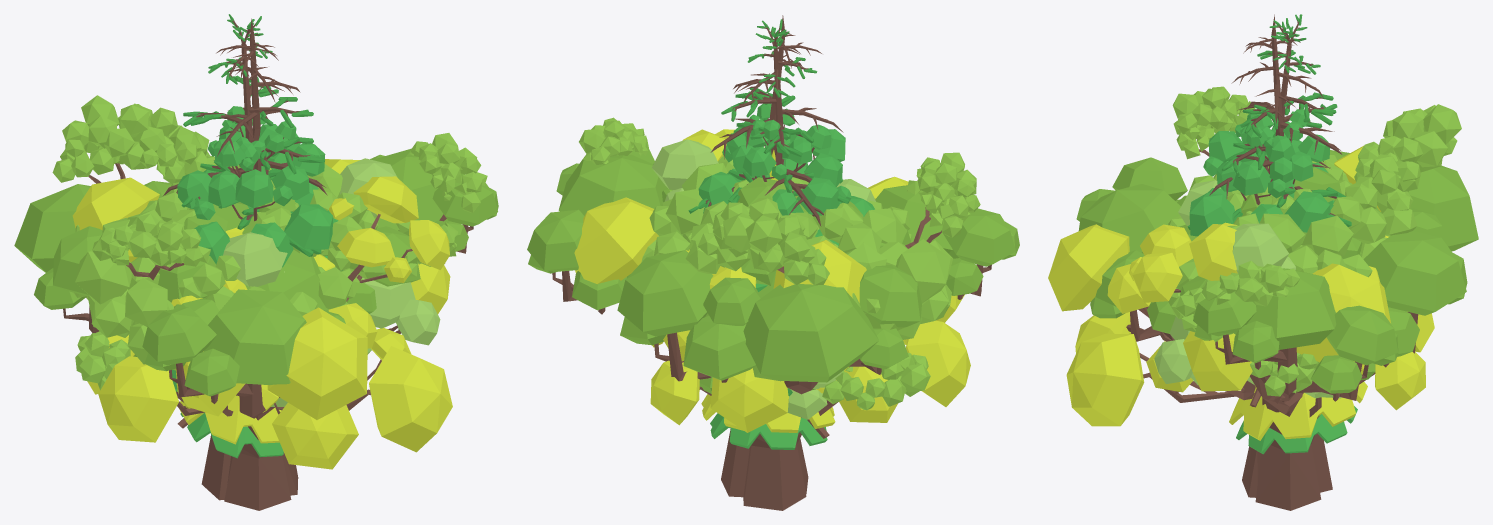
Rendered from r3f_trees.glb.
The picture shows the model from 3 angles, left to right: view 1: azimuth 30°, elevation 25°; view 2: azimuth 150°, elevation 25°; view 3: azimuth 270°, elevation 25°; orthographic projection.
Parts seen in each view (by area): view 1: cool_tree01, Big_tree01, fat_tree01, LP_tree01, G_tree01, big__pine_tree01, big_dead_pine_tree01, Pine_tree01, Pine_01, cartoon_tree01; view 2: fat_tree01, Big_tree01, cool_tree01, LP_tree01, big__pine_tree01, G_tree01, big_dead_pine_tree01, Pine_01, cartoon_tree01, Pine_tree01; view 3: fat_tree01, cool_tree01, Big_tree01, LP_tree01, G_tree01, big__pine_tree01, Pine_tree01, big_dead_pine_tree01, Pine_01, cartoon_tree01.
Boxes of the visible parts, left/top/right/bottom form: cool_tree01: left=72, top=159, right=452, bottom=469; Big_tree01: left=52, top=95, right=487, bottom=390; fat_tree01: left=14, top=148, right=498, bottom=510; LP_tree01: left=177, top=106, right=343, bottom=271; G_tree01: left=176, top=158, right=440, bottom=406; big__pine_tree01: left=181, top=14, right=324, bottom=256; big_dead_pine_tree01: left=162, top=18, right=327, bottom=196; Pine_tree01: left=179, top=395, right=281, bottom=444; Pine_01: left=180, top=166, right=283, bottom=458; cartoon_tree01: left=134, top=165, right=330, bottom=356; fat_tree01: left=527, top=139, right=1019, bottom=510; Big_tree01: left=579, top=117, right=980, bottom=410; cool_tree01: left=574, top=129, right=970, bottom=432; LP_tree01: left=698, top=103, right=874, bottom=291; big__pine_tree01: left=688, top=19, right=848, bottom=396; G_tree01: left=652, top=139, right=875, bottom=419; big_dead_pine_tree01: left=710, top=15, right=843, bottom=226; Pine_01: left=710, top=144, right=827, bottom=449; cartoon_tree01: left=737, top=177, right=863, bottom=403; Pine_tree01: left=701, top=150, right=835, bottom=432; fat_tree01: left=1076, top=150, right=1478, bottom=510; cool_tree01: left=1048, top=145, right=1434, bottom=426; Big_tree01: left=1167, top=86, right=1461, bottom=414; LP_tree01: left=1189, top=109, right=1334, bottom=236; G_tree01: left=1154, top=180, right=1341, bottom=418; big__pine_tree01: left=1187, top=14, right=1351, bottom=229; Pine_tree01: left=1229, top=382, right=1367, bottom=440; big_dead_pine_tree01: left=1209, top=14, right=1342, bottom=198; Pine_01: left=1236, top=179, right=1357, bottom=454; cartoon_tree01: left=1241, top=166, right=1380, bottom=377.
Size of the model in its own units: 27.8 by 31.21 by 25.88.
1 material, 1 textured.
